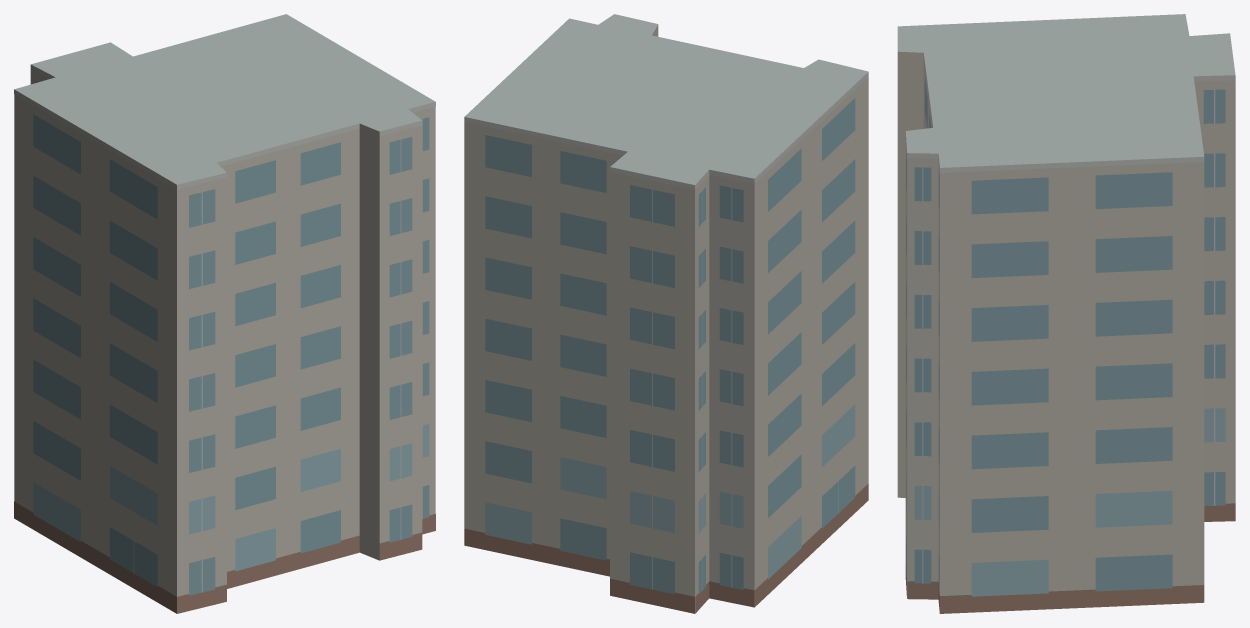
Rendered from survey-upis-32739107.glb.
3 renders of one model, left to right at view 1: azimuth 30°, elevation 25°; view 2: azimuth 150°, elevation 25°; view 3: azimuth 270°, elevation 25°, orthographic. The views are drawn at different scales.
Visible parts, largest first — view 1: survey-upis-32739107.tmp; view 2: survey-upis-32739107.tmp; view 3: survey-upis-32739107.tmp.
Boxes of the visible parts, bbox=[...] form: survey-upis-32739107.tmp: bbox=[14, 14, 435, 613]; survey-upis-32739107.tmp: bbox=[464, 14, 868, 613]; survey-upis-32739107.tmp: bbox=[897, 14, 1235, 613].
Size of the model in its own units: 15.81 by 21.35 by 14.68.
